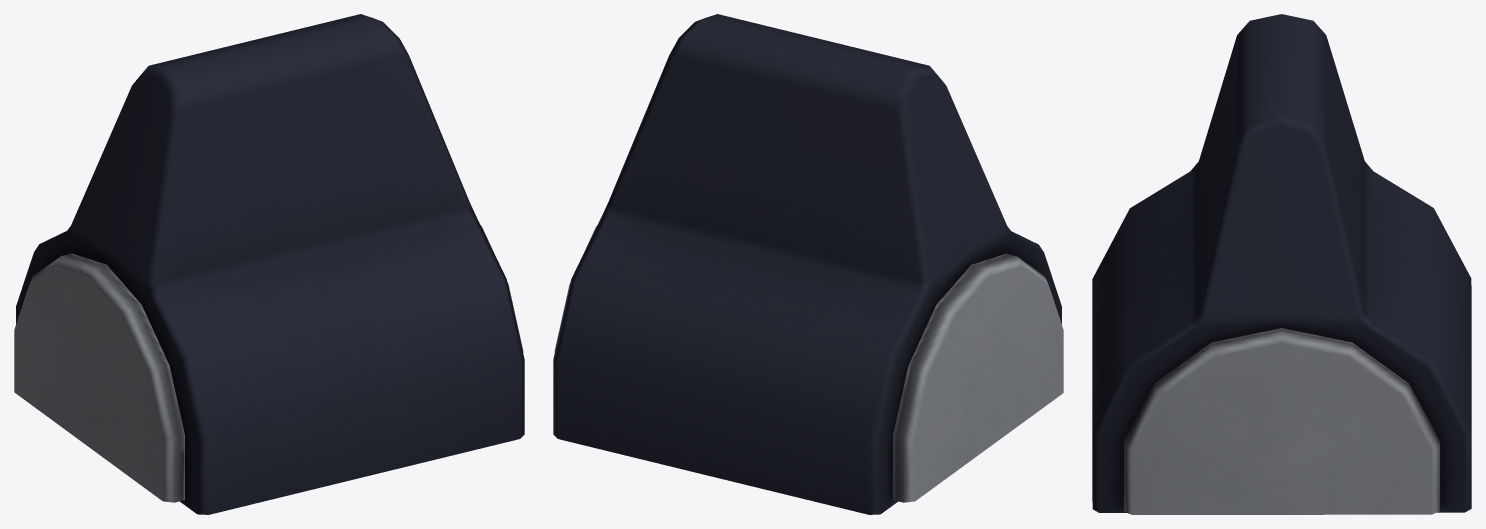
Rendered from Switch 2.fbx.
The picture shows the model from 3 angles, left to right: view 1: azimuth 30°, elevation 25°; view 2: azimuth 150°, elevation 25°; view 3: azimuth 270°, elevation 25°; orthographic projection.
Parts seen in each view (by area): view 1: Switch_2; view 2: Switch_2; view 3: Switch_2.
Part boxes in pixels (box(x1,y1,x2,y2)): Switch_2: box(14, 14, 524, 514); Switch_2: box(553, 14, 1063, 514); Switch_2: box(1092, 14, 1471, 514).
Bounding box in the file's own units: 3.44 × 3.33 × 3.11.
